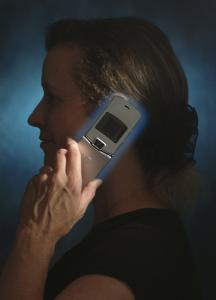phone: (80, 93, 143, 173)
